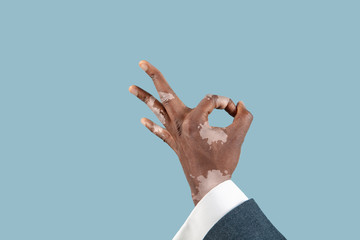vitiligo: (159, 92, 238, 185)
